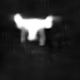plane: (12, 11, 56, 46)
